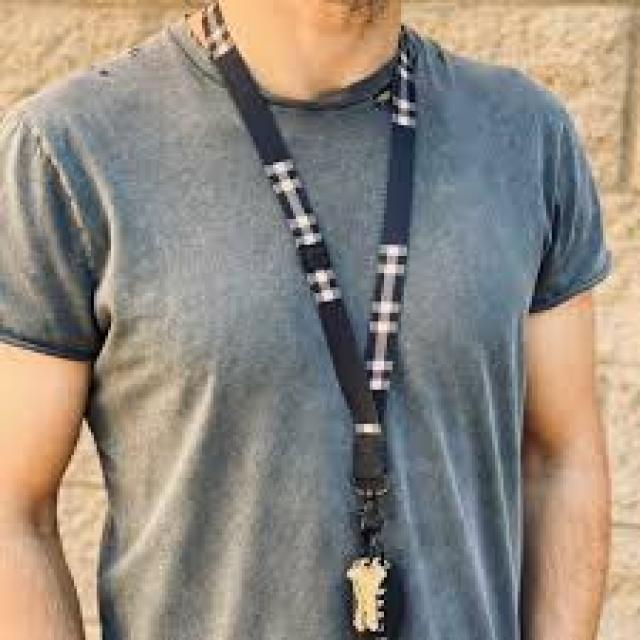id_card: (219, 24, 421, 623)
